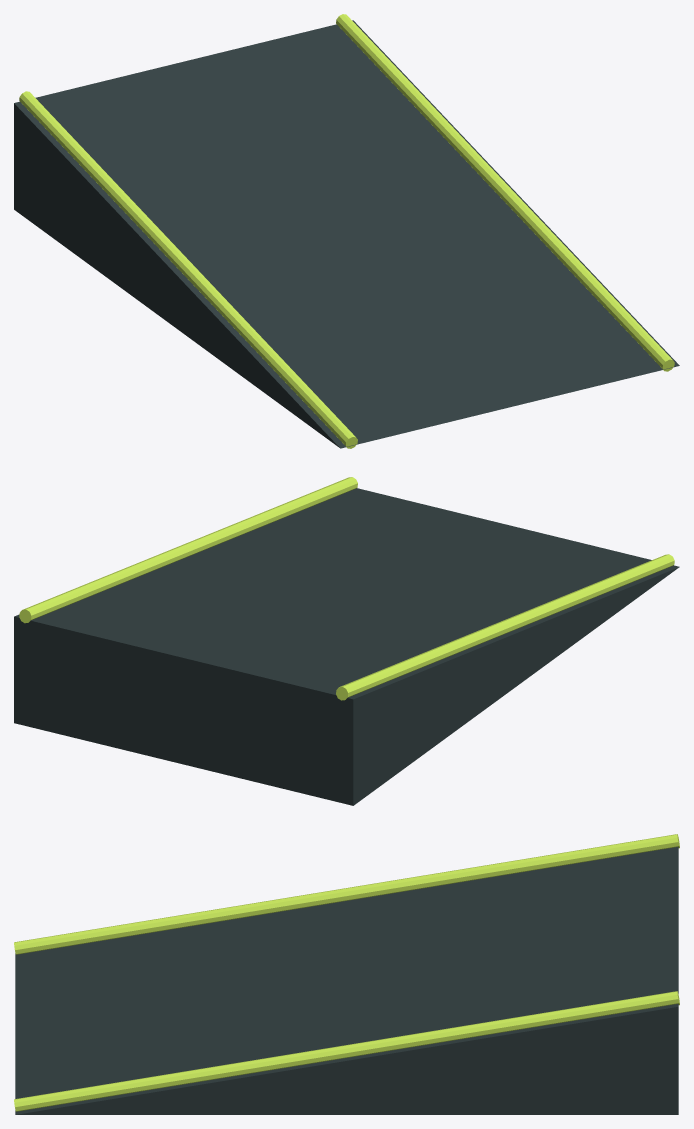
File: ramp.glb
3 renders of one model, top to bottom at view 1: azimuth 30°, elevation 25°; view 2: azimuth 150°, elevation 25°; view 3: azimuth 270°, elevation 25°, orthographic.
Visible parts, largest first — view 1: Trail ramp, Ramp edge, Ramp edge.001; view 2: Trail ramp, Ramp edge, Ramp edge.001; view 3: Trail ramp, Ramp edge.001, Ramp edge.
Boxes of the visible parts, x1=… form: Trail ramp: x1=14, y1=20, x2=679, y2=448; Ramp edge: x1=19, y1=91, x2=357, y2=448; Ramp edge.001: x1=336, y1=14, x2=674, y2=371; Trail ramp: x1=14, y1=488, x2=679, y2=805; Ramp edge: x1=336, y1=554, x2=674, y2=700; Ramp edge.001: x1=19, y1=477, x2=357, y2=623; Trail ramp: x1=15, y1=846, x2=678, y2=1114; Ramp edge.001: x1=14, y1=991, x2=679, y2=1111; Ramp edge: x1=14, y1=834, x2=679, y2=954.
Size of the model in its own units: 3 by 1.01 by 5.02.
